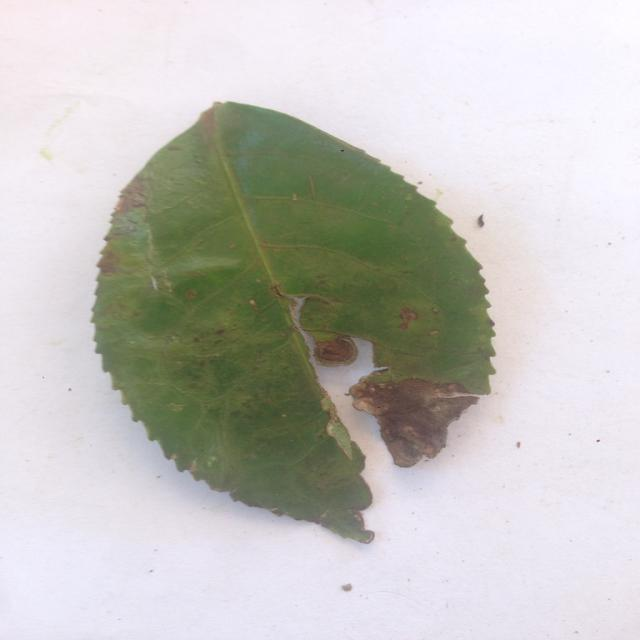Brown Blight: (92, 92, 510, 552)
